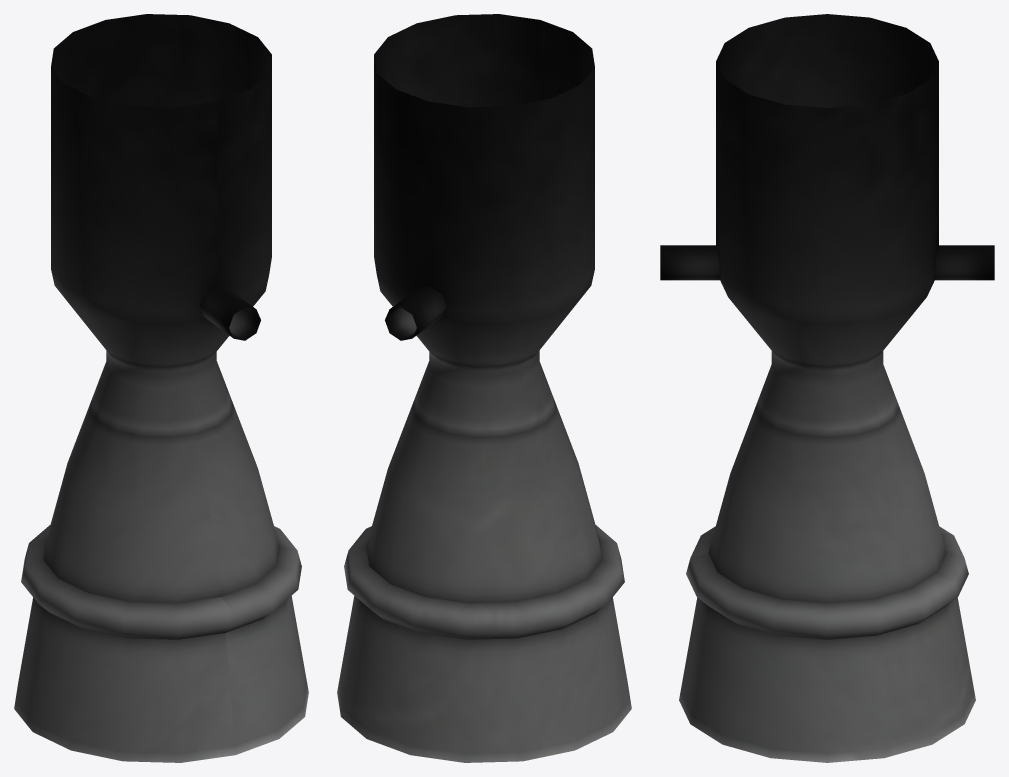
The model's file is lower vernier NOZZLE.obj.
3 views of the same model, side by side, from view 1: azimuth 30°, elevation 25°; view 2: azimuth 150°, elevation 25°; view 3: azimuth 270°, elevation 25° (orthographic).
Parts seen in each view (by area): view 1: 2; view 2: 2; view 3: 2.
Part boxes in pixels (box(x1,y1,x2,y2)): 2: box(14, 14, 308, 762); 2: box(337, 14, 631, 762); 2: box(660, 14, 994, 762).
Bounding box in the file's own units: 0.2 × 0.475 × 0.225.
1 material, 1 textured.
